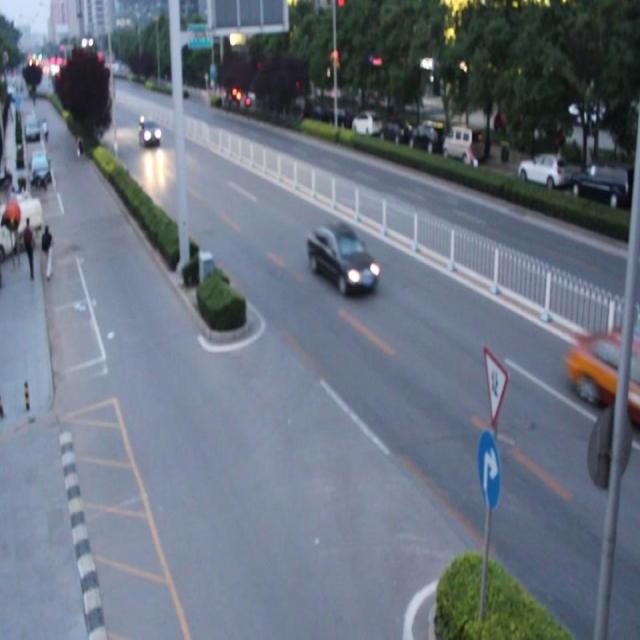car: (307, 219, 379, 294)
